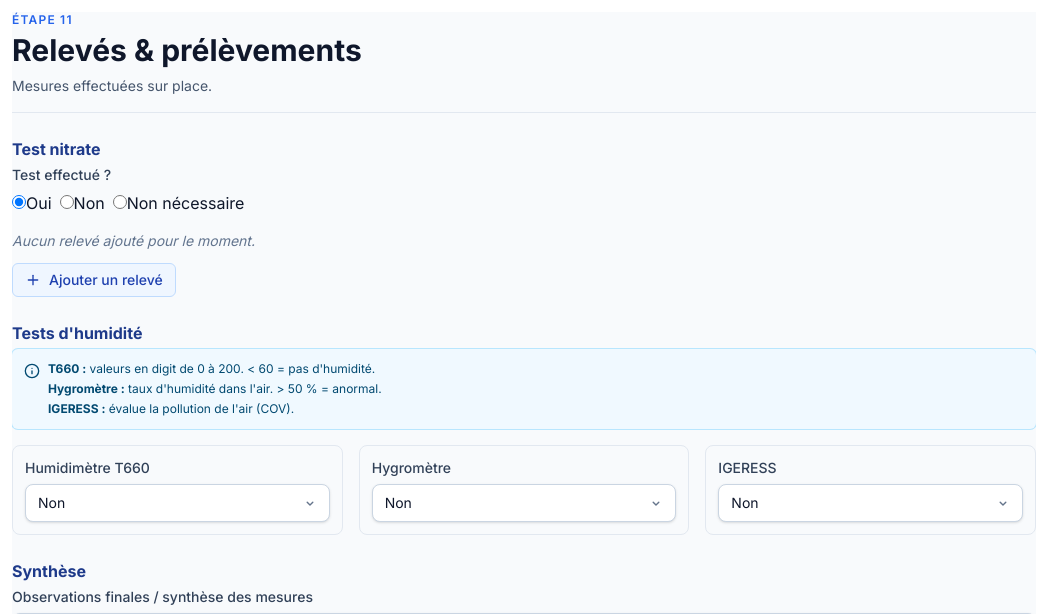
Test: Step11Releves › NitrateTestList (relevés) › ajoute un relevé au clic sur "Ajouter un relevé"
The image size is (1048, 614).
Click the button "Ajouter un relevé": x=94, y=280 [12,263,176,297]
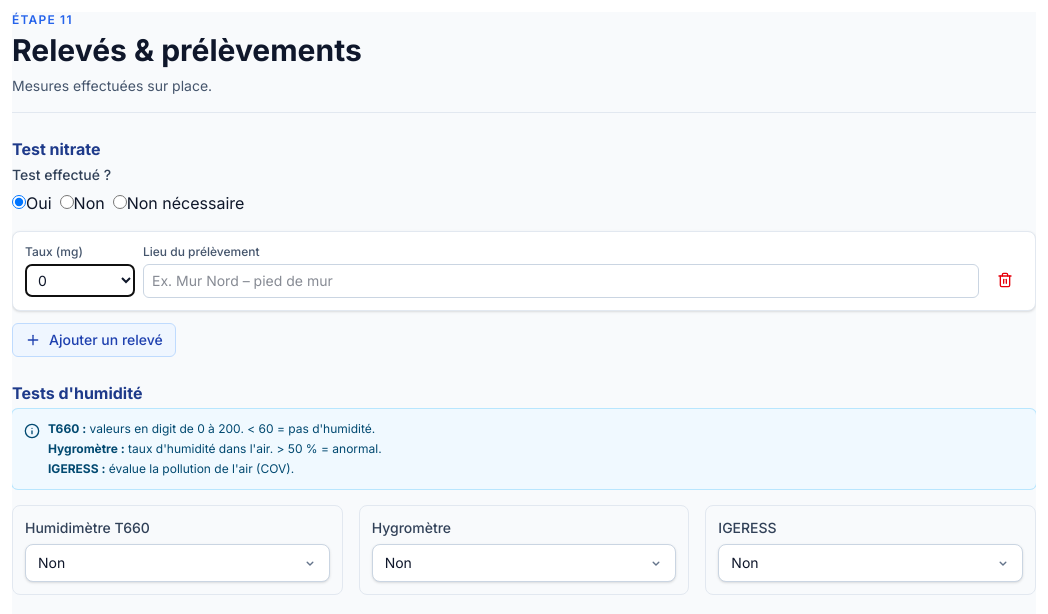
Check: the text "Taux (mg)" is shown, box [25,244,83,259]
Check: the text "Lieu du prélèvement" is shown, box [143,244,260,259]
